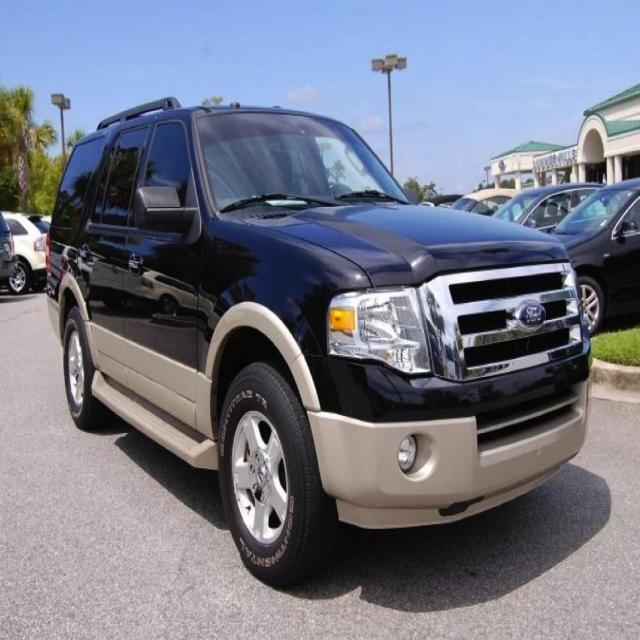Car: (31, 90, 606, 566)
